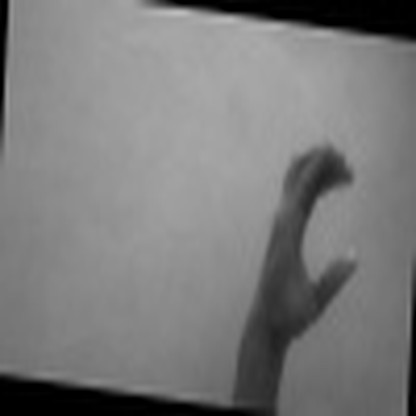c: (264, 132, 362, 335)
